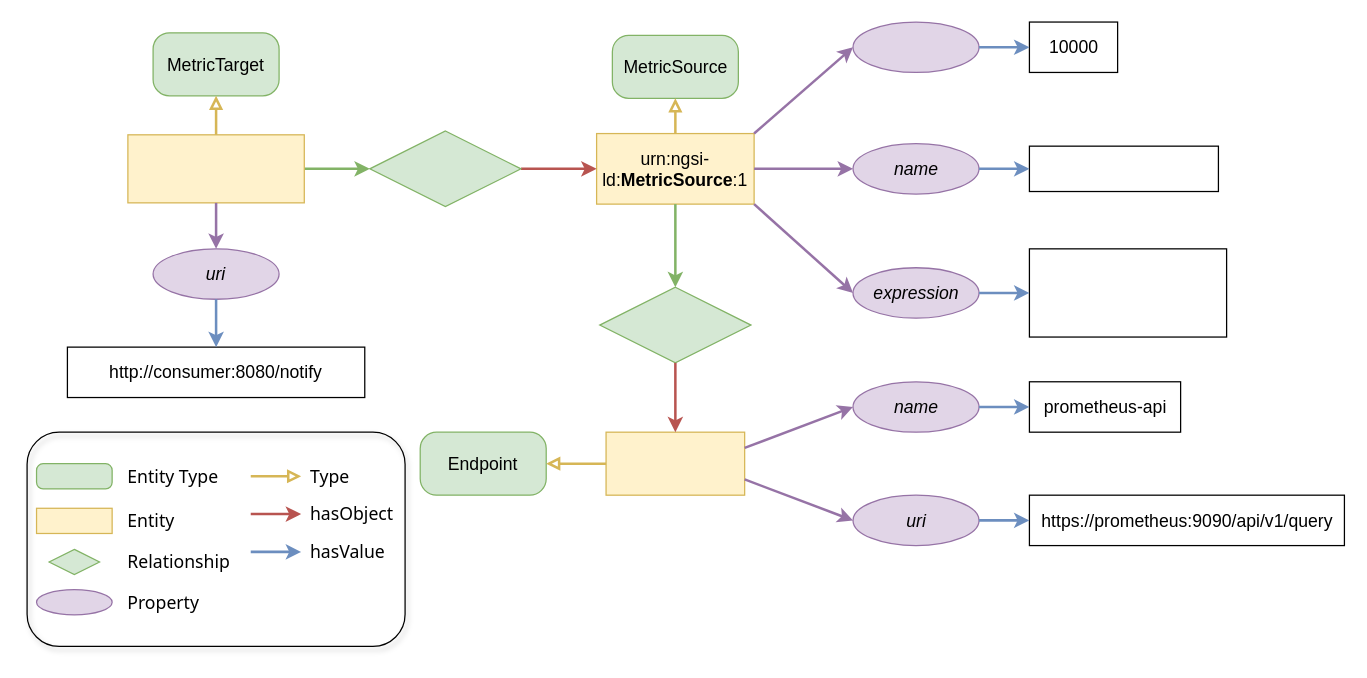
Some shapes in this 1367 by 678 pixel diagram are drawn without their labels. The centre of each missing label's shape, as x and y in pixels:
hasEndpoint: (674,324)
hasInput: (445,168)
http_requests_total: (1123,168)
interval: (915,46)
urn:ngsi-ld: Endpoint :1: (675,463)
urn:ngsi-ld: MetricTarget :1: (215,168)
{ "job": "prometheus", "code": "200" }: (1127,292)
